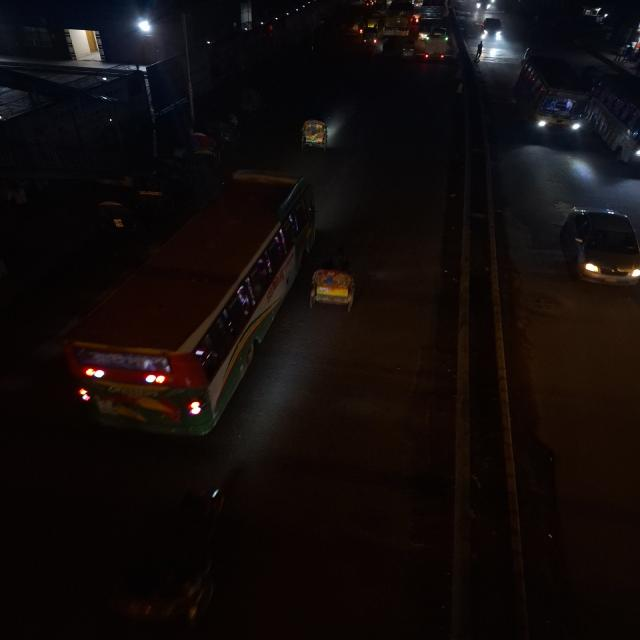bus: (44, 166, 320, 443), (516, 47, 597, 147), (590, 74, 640, 176), (383, 2, 414, 38)
car: (552, 202, 640, 291), (478, 15, 504, 45)
cng: (358, 27, 379, 49)
pedestrian: (475, 41, 486, 62)
rickshaw: (306, 248, 366, 316), (292, 112, 339, 156), (400, 41, 417, 59)
truck: (422, 36, 448, 58)
